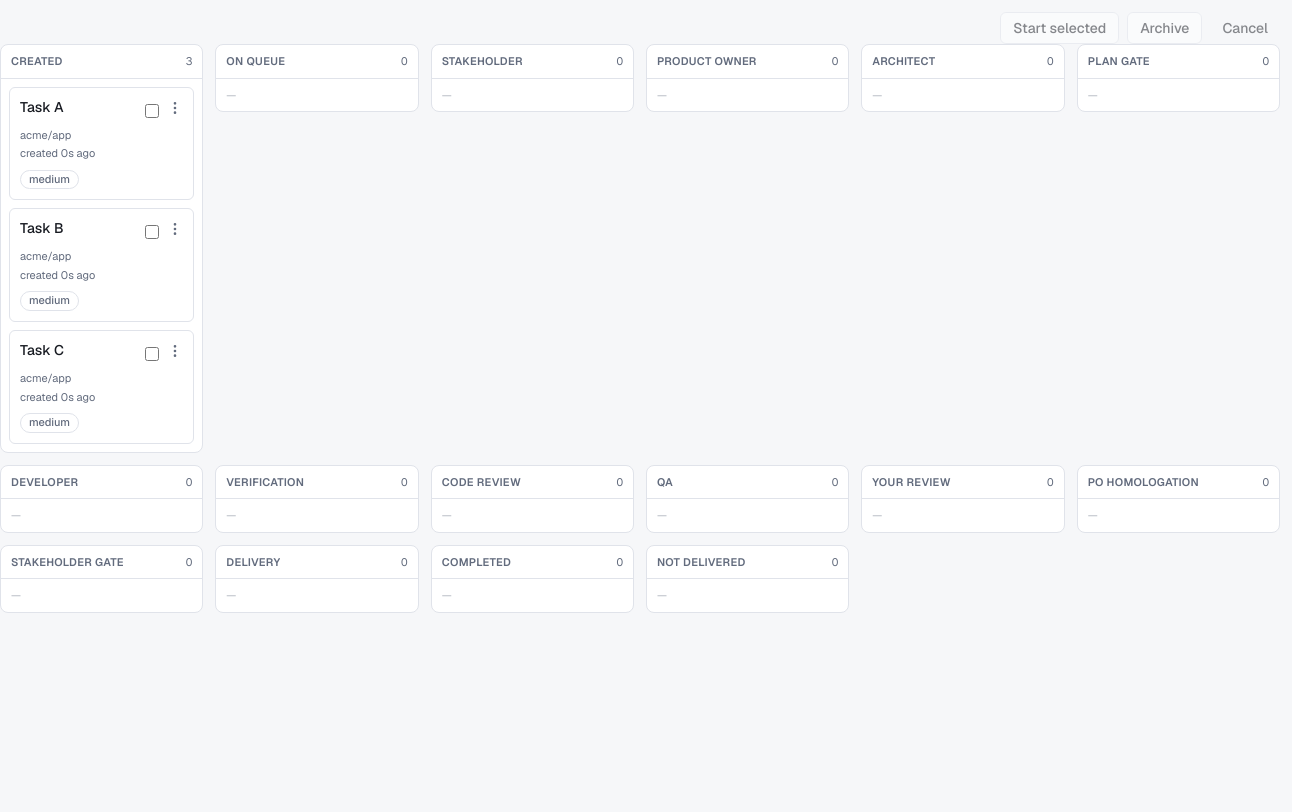
Test case: BatchStartButton outcome summary › shows a partial-start summary distinguishing a genuine failure from an on-queue task
This screenshot has width=1292, height=812.
Click the checkbox named "Task A".
click(152, 110)  # box [145,104,159,118]
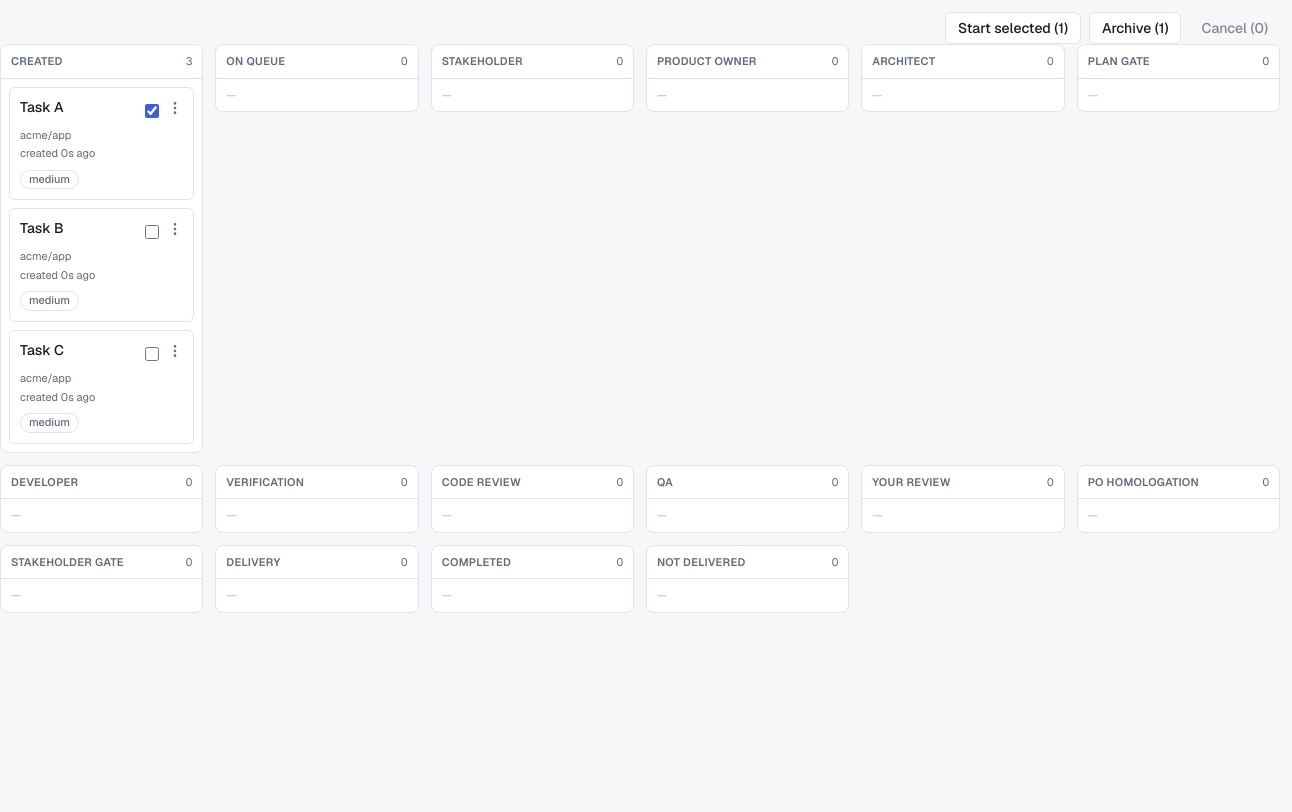
Click the checkbox named "Task B".
click(152, 232)  # box [145,225,159,239]
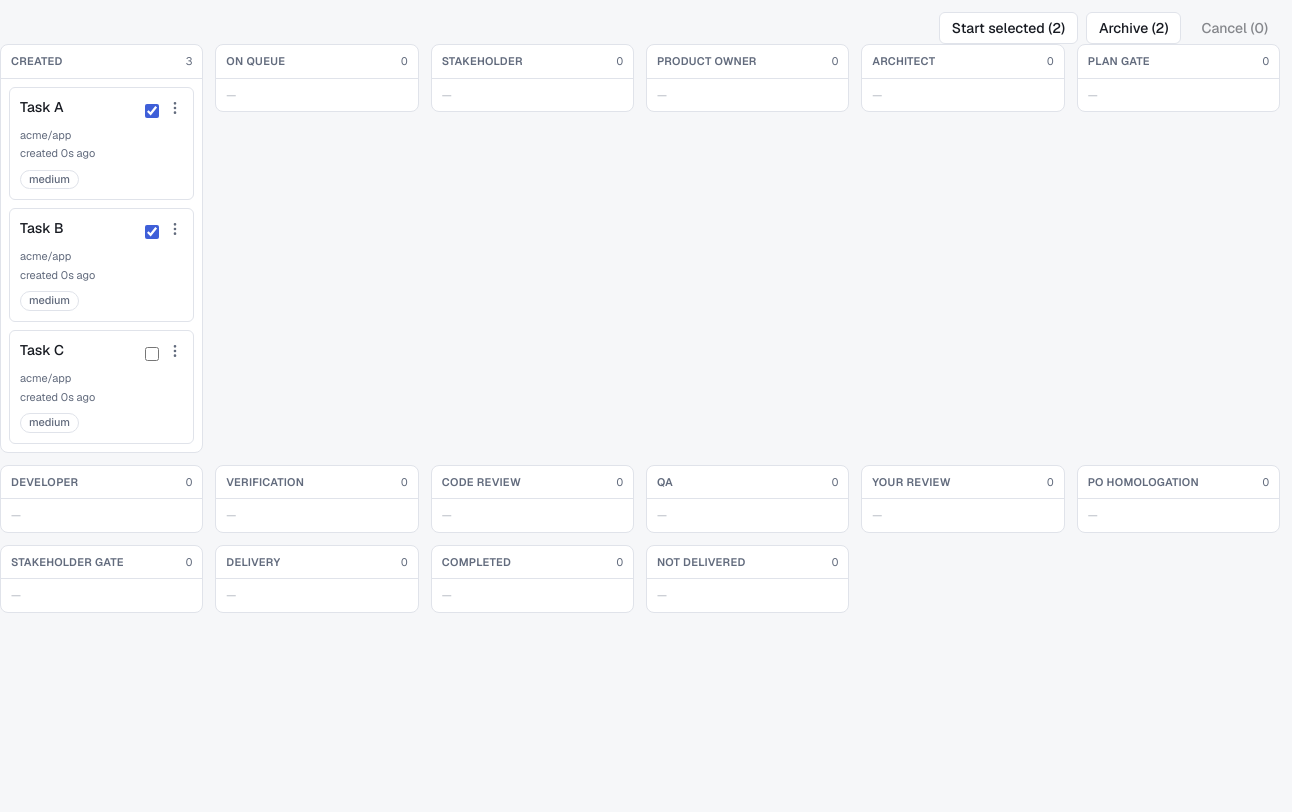
Click the checkbox named "Task C".
click(152, 354)  # box [145,347,159,361]
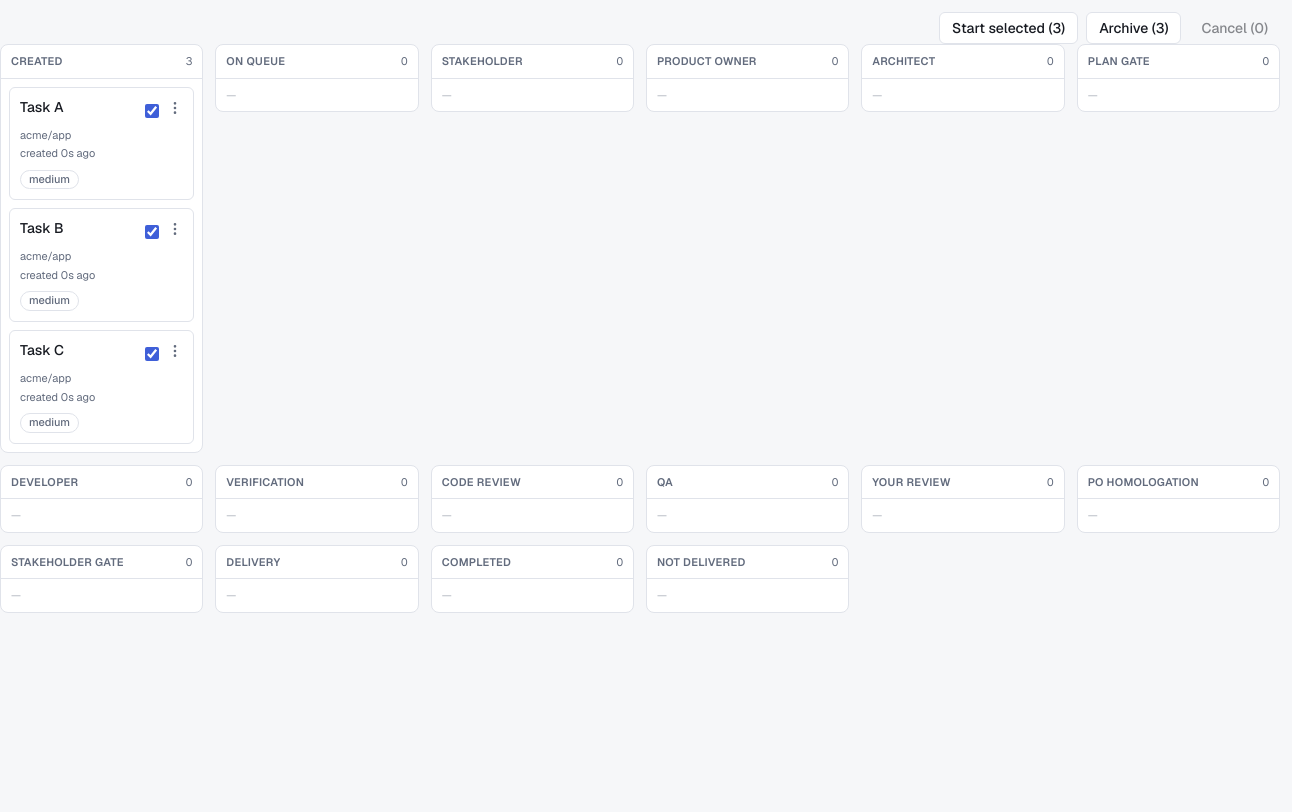
Click the button "Start selected (3)".
click(1009, 28)  # box [939,12,1078,44]
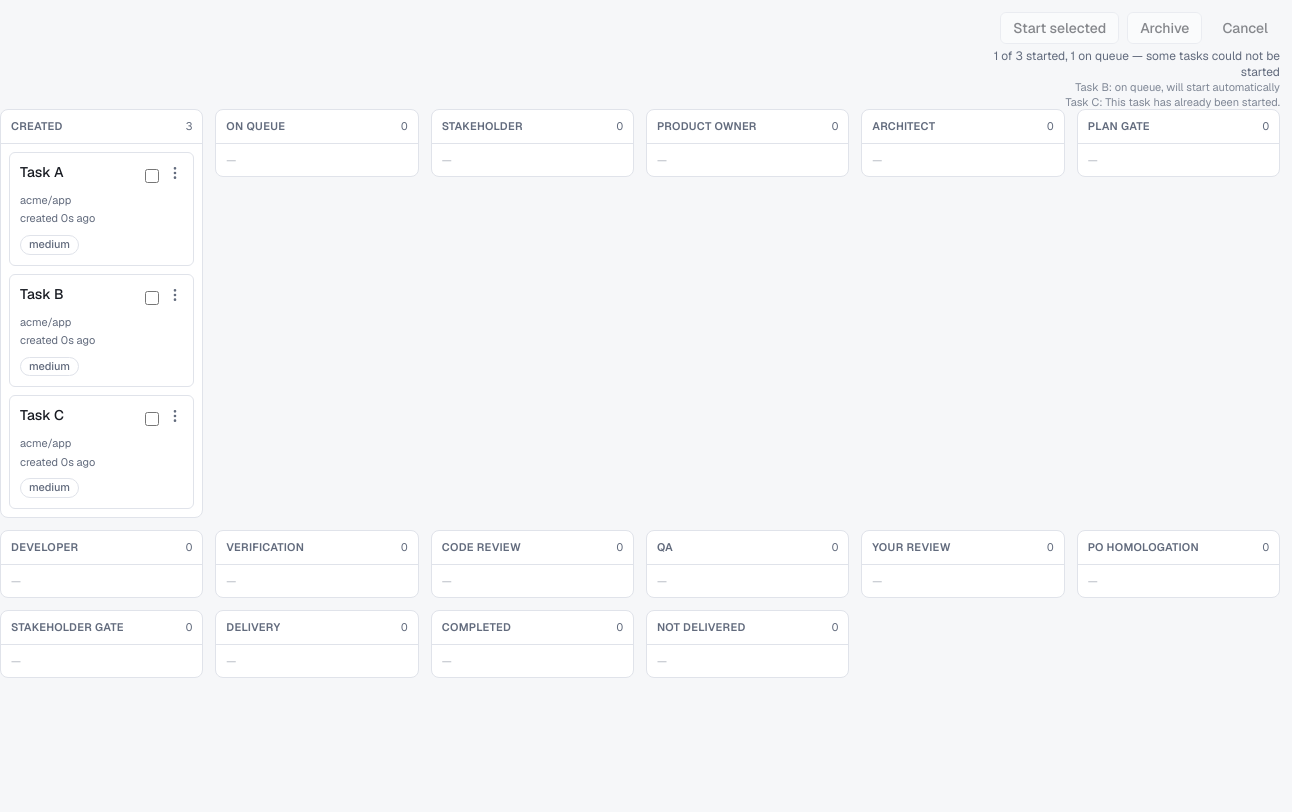
Result: the text "1 of 3 started, 1 on queue — some tasks could not be started" is shown at [960,48,1280,80]
Result: the text "Task B: on queue, will start automatically" is shown at [1075,80,1280,94]
Result: the text "Task C: This task has already been started." is shown at [1065,95,1280,109]
